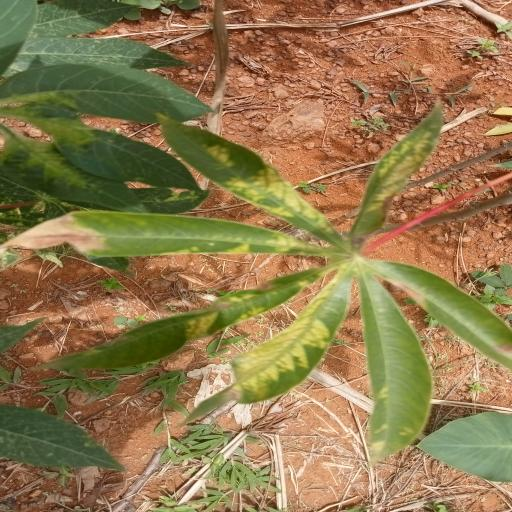Cassava_Mosaic: (7, 110, 512, 467), (0, 0, 235, 213)
